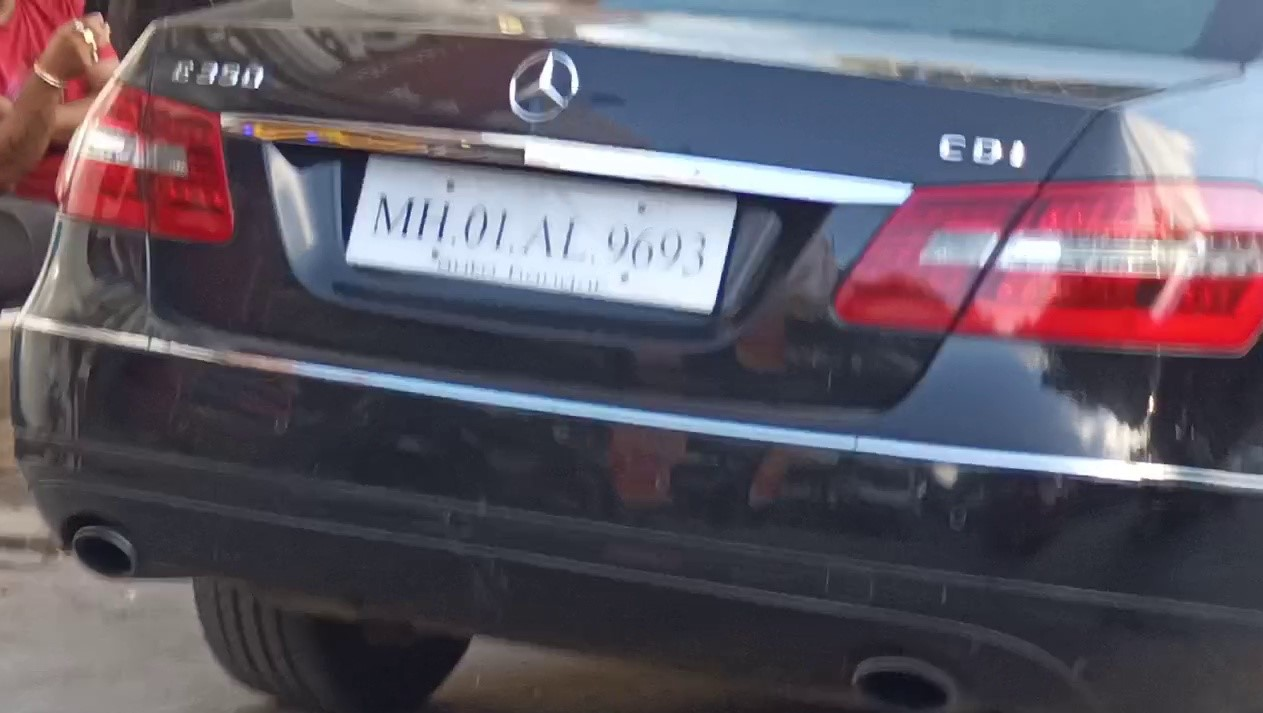MH01AL9693: (346, 149, 738, 315)
